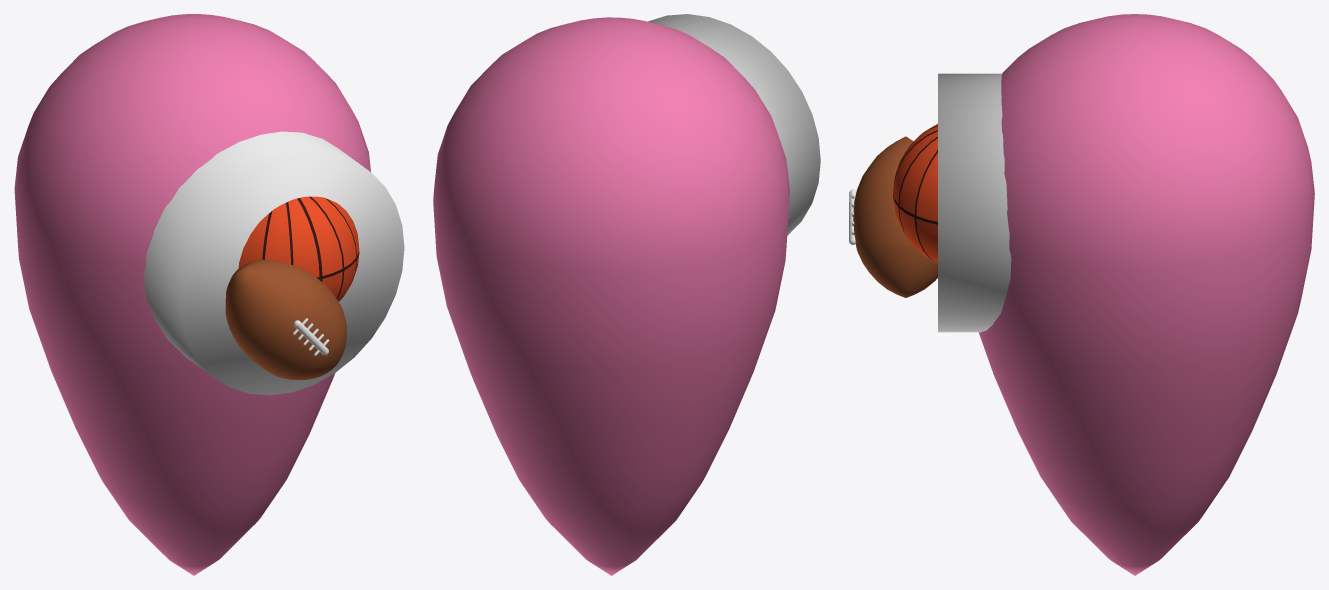
File: activityPin.glb
3 views of the same model, side by side, from view 1: azimuth 30°, elevation 25°; view 2: azimuth 150°, elevation 25°; view 3: azimuth 270°, elevation 25° (orthographic).
Visible parts, largest first — view 1: pin.006, Cylinder.013, Sphere.024, Sphere.031; view 2: pin.006, Cylinder.013; view 3: pin.006, Cylinder.013, Sphere.024, Sphere.031.
Boxes of the visible parts, <box> form: pin.006: <box>14,14,370,575</box>; Cylinder.013: <box>143,131,404,395</box>; Sphere.024: <box>225,259,346,380</box>; Sphere.031: <box>238,196,359,301</box>; pin.006: <box>433,17,789,575</box>; Cylinder.013: <box>648,14,820,235</box>; pin.006: <box>978,14,1314,575</box>; Cylinder.013: <box>938,73,1011,332</box>; Sphere.024: <box>853,136,937,297</box>; Sphere.031: <box>893,124,937,263</box>.
Bounding box in the file's own units: 0.2435 × 0.4072 × 0.3152.
